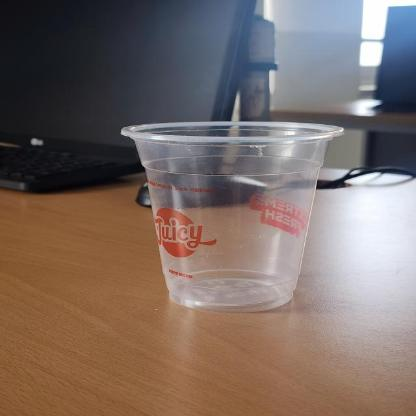Plastic Cup: (119, 120, 347, 314)
